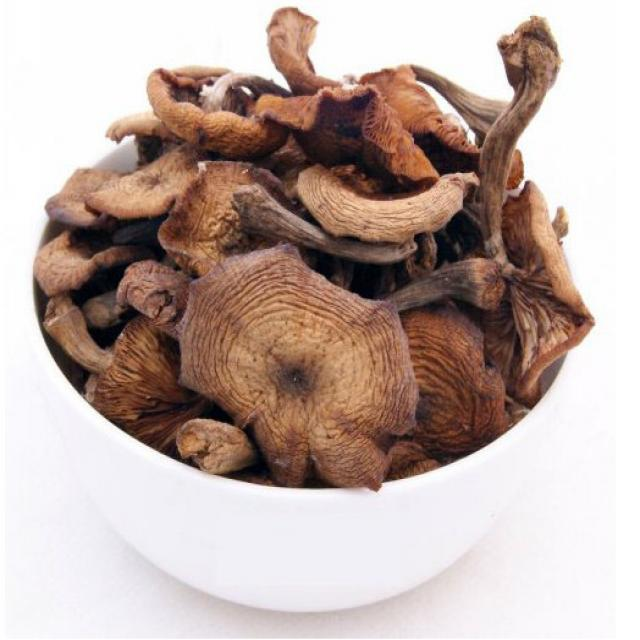Armillaria mellea: (39, 0, 595, 490)
